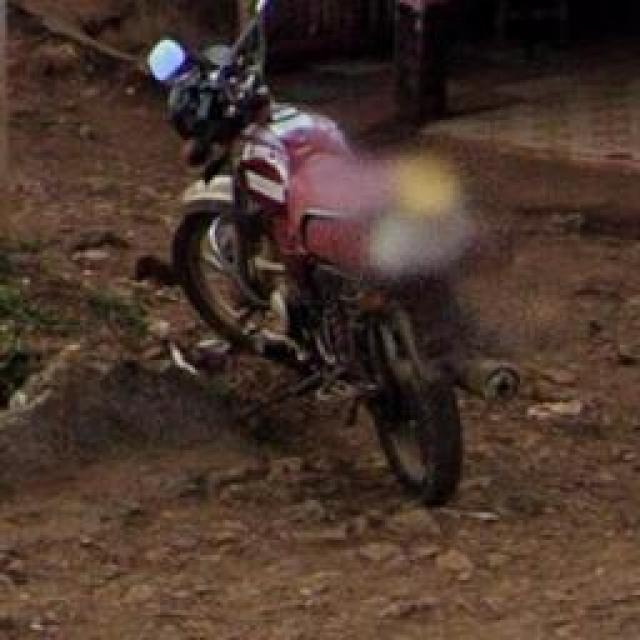motorbike: (133, 0, 523, 523)
